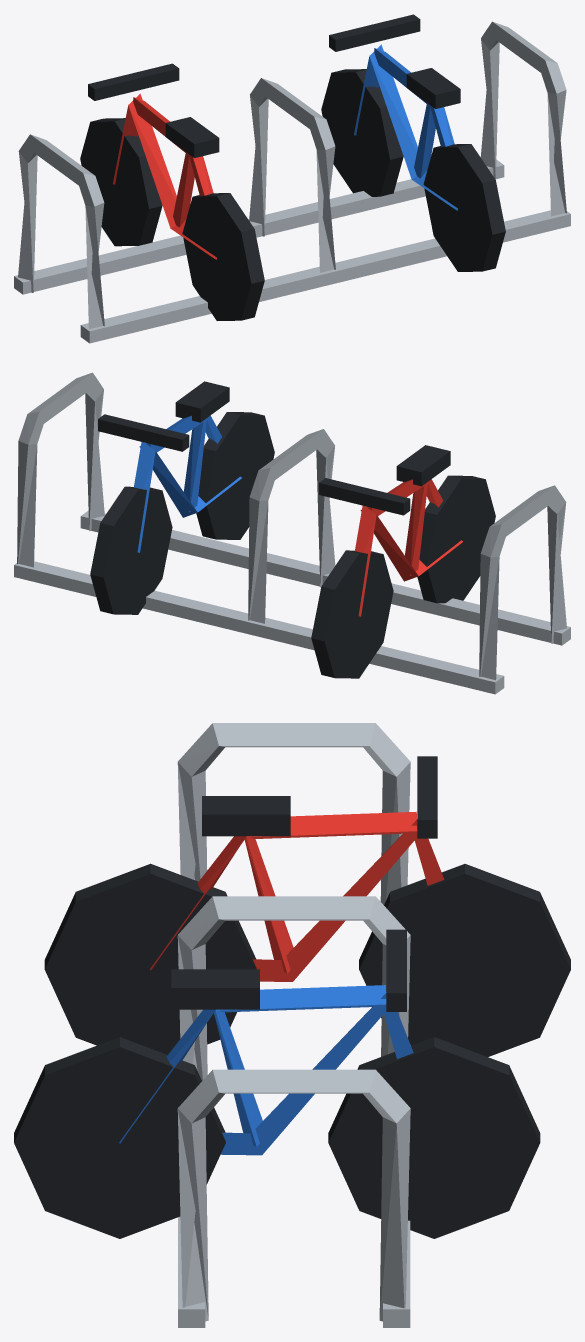
File: bike_rack.glb
3 renders of one model, top to bottom at view 1: azimuth 30°, elevation 25°; view 2: azimuth 150°, elevation 25°; view 3: azimuth 270°, elevation 25°, orthographic. The views are drawn at different scales.
Parts seen in each view (by area): view 1: bike_rack; view 2: bike_rack; view 3: bike_rack.
Boxes of the visible parts, bbox=[...] form: bike_rack: bbox=[14, 14, 570, 343]; bike_rack: bbox=[14, 372, 570, 694]; bike_rack: bbox=[14, 723, 570, 1327].
Size of the model in its own units: 0.25 by 0.088 by 0.163.
